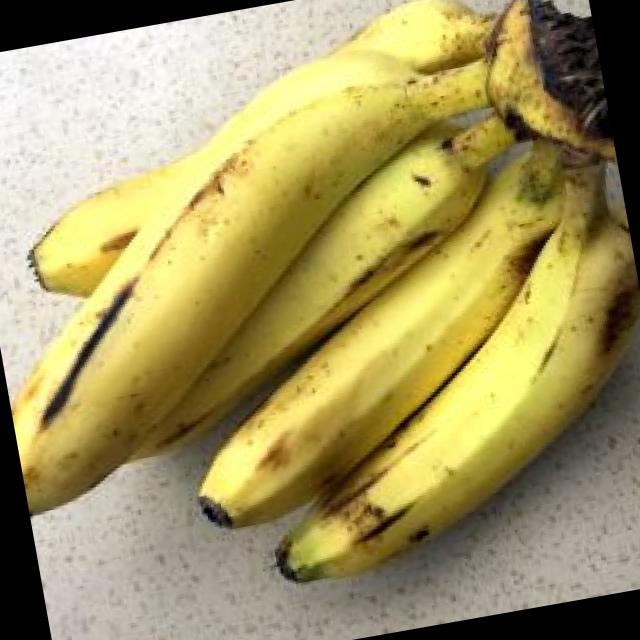banana: (25, 95, 562, 640)
